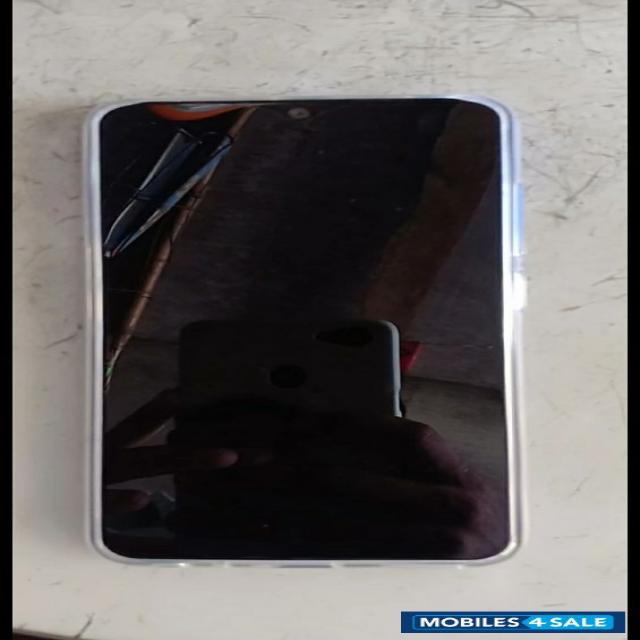mobile phone: (82, 95, 526, 565)
